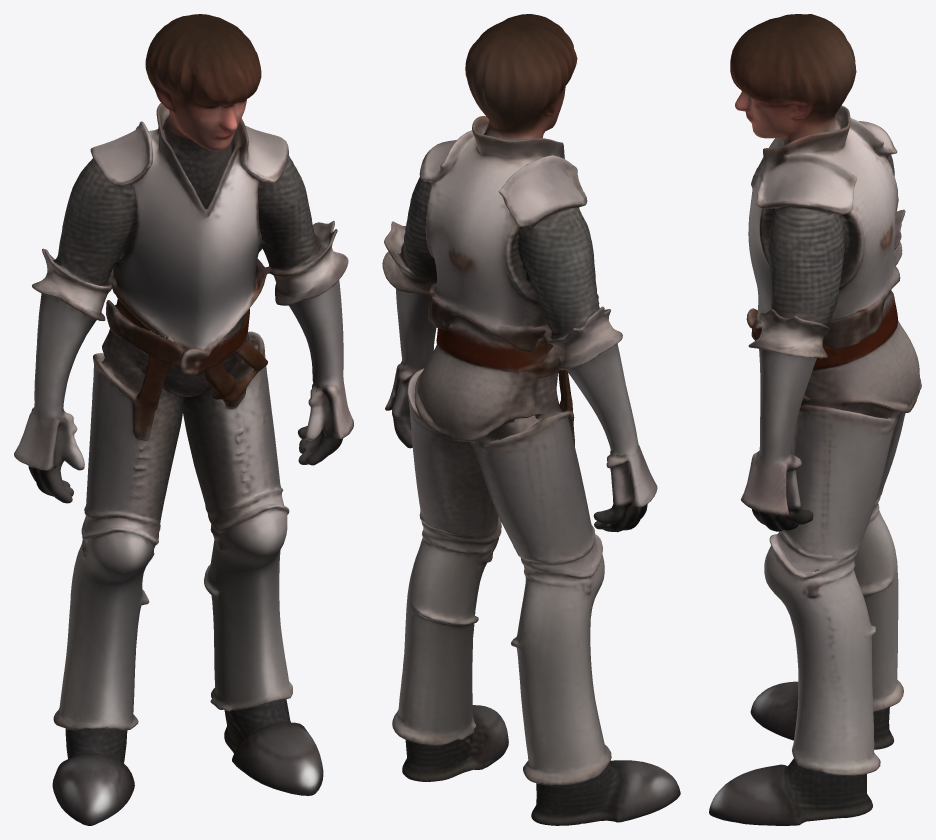
Rendered from knight2_s32.glb.
The picture shows the model from 3 angles, left to right: view 1: azimuth 30°, elevation 25°; view 2: azimuth 150°, elevation 25°; view 3: azimuth 270°, elevation 25°; orthographic projection.
Parts seen in each view (by area): view 1: geometry_0; view 2: geometry_0; view 3: geometry_0.
Part boxes in pixels (box(x1,y1,x2,y2)): geometry_0: box(14, 14, 353, 825); geometry_0: box(382, 14, 680, 825); geometry_0: box(709, 14, 921, 825).
Size of the model in its own units: 0.4115 by 1 by 0.2541.
1 material, 1 textured.
